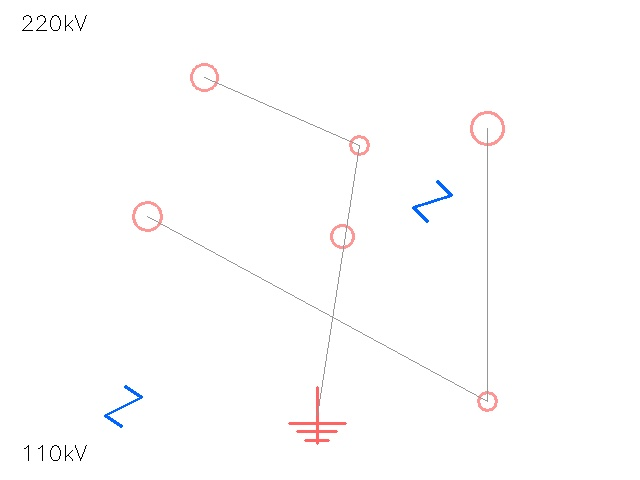circuit_breaker: (412, 181, 452, 221), (103, 386, 143, 426)
feeder_terminal: (119, 188, 175, 244), (319, 213, 365, 259), (340, 126, 378, 164)
ground: (289, 387, 345, 443)
reactor: (178, 51, 230, 103)
surge_arrester: (455, 96, 519, 160), (468, 382, 506, 420)
